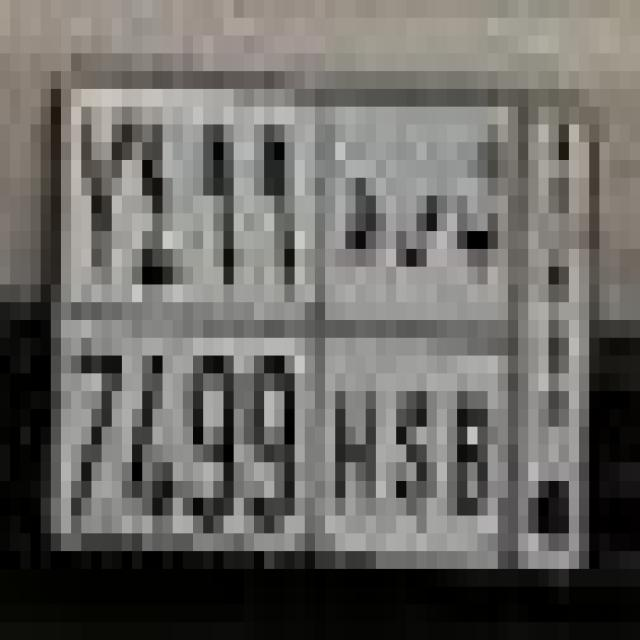license_plate: (57, 93, 595, 568)
